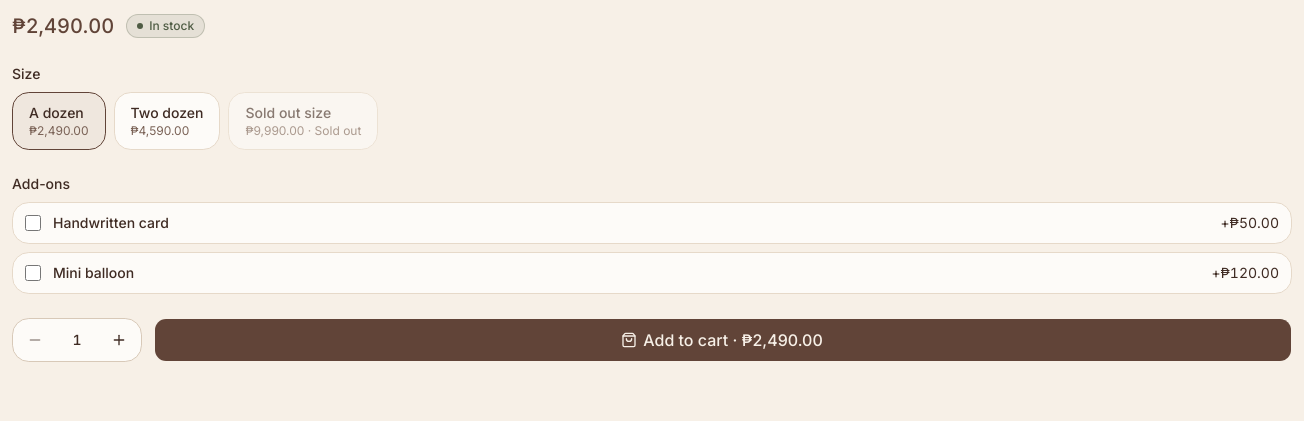
Test case: AddToCartForm › shows server errors inline
Click the button "Add to cart · ₱2,490.00" at (723, 340), box [154,318,1292,362]
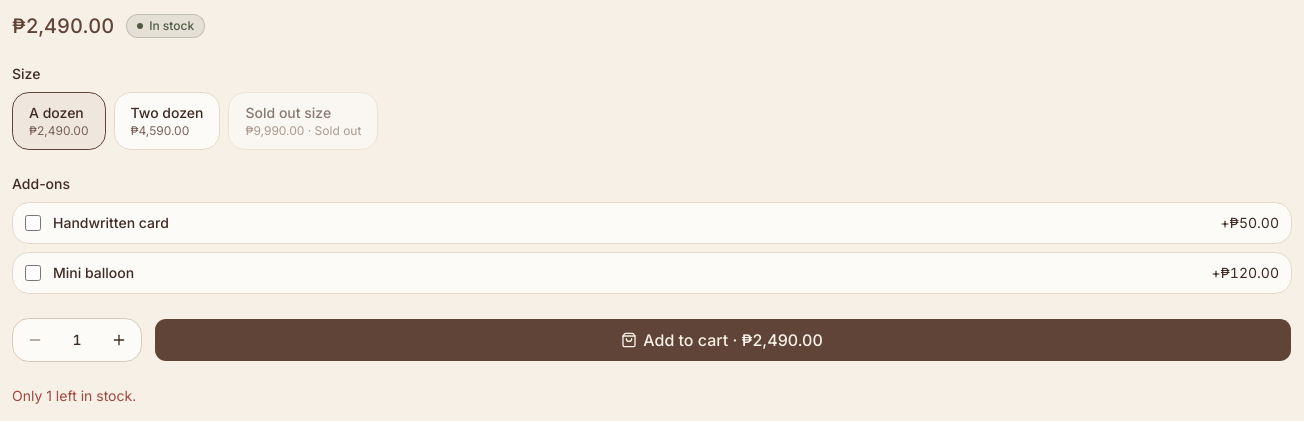
Check: the message reads "Only 1 left in stock.", box [12,387,136,404]
